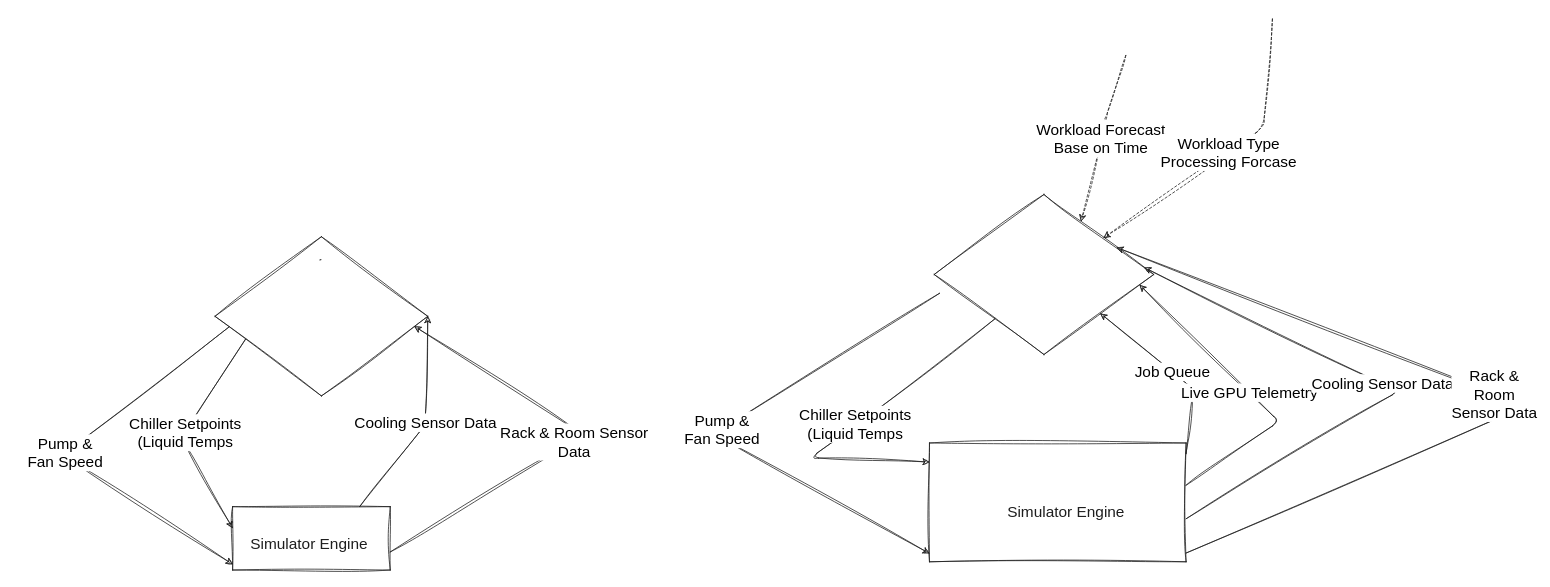
Some shapes in this 1550 by 587 pixel diagram are drawn without their labels. The centre of each missing label's shape, as x and y in pixels:
"Agentic System" goes at (1043,274).
"Traditional System" goes at (321,316).
